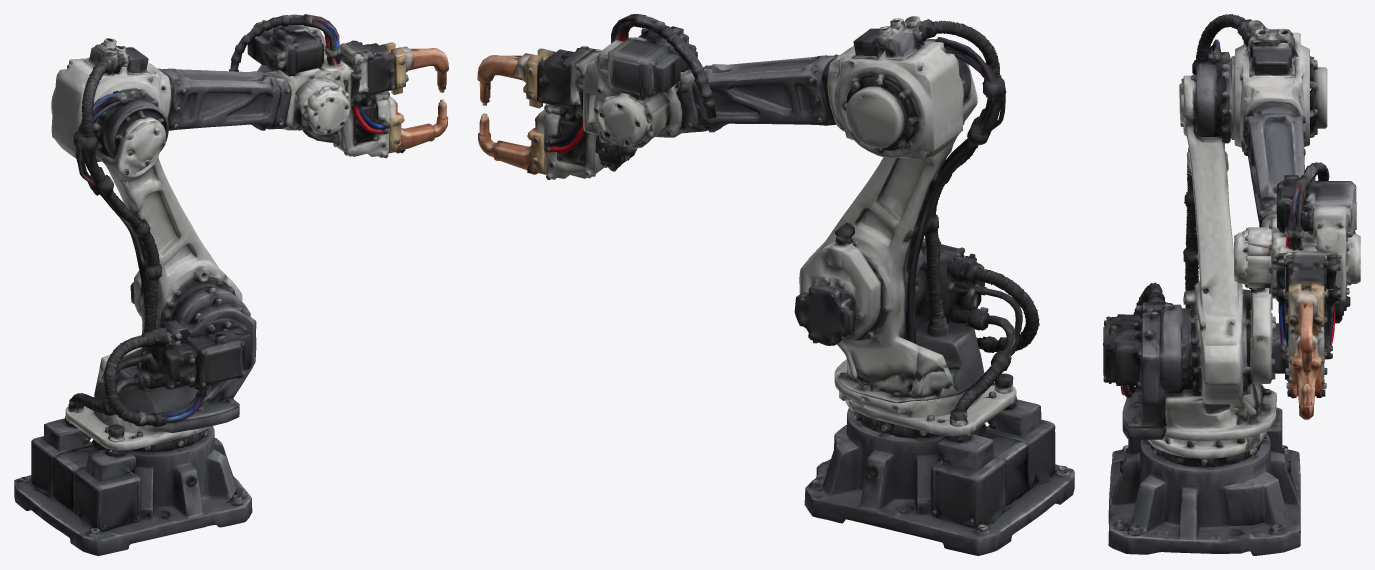
File: robot-soldadura.glb
3 views of the same model, side by side, from view 1: azimuth 30°, elevation 25°; view 2: azimuth 150°, elevation 25°; view 3: azimuth 270°, elevation 25° (orthographic). The views are drawn at different scales.
Visible parts, largest first — view 1: tripo_part_1, tripo_part_0, tripo_part_2, tripo_part_3, tripo_part_4, tripo_part_15, tripo_part_11, tripo_part_10, tripo_part_5, tripo_part_13, tripo_part_23, tripo_part_12 (+17 smaller); view 2: tripo_part_0, tripo_part_1, tripo_part_2, tripo_part_3, tripo_part_4, tripo_part_6, tripo_part_8, tripo_part_13, tripo_part_21, tripo_part_15, tripo_part_7, tripo_part_5 (+17 smaller); view 3: tripo_part_1, tripo_part_2, tripo_part_3, tripo_part_0, tripo_part_4, tripo_part_8, tripo_part_10, tripo_part_6, tripo_part_11, tripo_part_18, tripo_part_16, tripo_part_26 (+18 smaller).
Part boxes in pixels (x1,y1,x2,y2): tripo_part_1: (14, 426, 252, 555); tripo_part_0: (51, 48, 174, 353); tripo_part_2: (99, 117, 242, 374); tripo_part_3: (65, 286, 250, 450); tripo_part_4: (158, 68, 280, 130); tripo_part_15: (73, 449, 140, 531); tripo_part_11: (162, 327, 251, 390); tripo_part_10: (146, 298, 256, 405); tripo_part_5: (104, 327, 208, 426); tripo_part_13: (31, 416, 94, 500); tripo_part_23: (264, 27, 323, 76); tripo_part_12: (229, 14, 341, 71); tripo_part_0: (822, 16, 1006, 343); tripo_part_1: (804, 408, 1074, 555); tripo_part_2: (799, 63, 977, 382); tripo_part_3: (834, 249, 1016, 436); tripo_part_4: (692, 54, 839, 132); tripo_part_6: (794, 222, 882, 345); tripo_part_8: (583, 30, 680, 148); tripo_part_13: (930, 433, 1011, 528); tripo_part_21: (843, 75, 917, 150); tripo_part_15: (983, 399, 1055, 490); tripo_part_7: (954, 284, 1022, 411); tripo_part_5: (947, 258, 1039, 352); tripo_part_1: (1108, 434, 1300, 555); tripo_part_2: (1179, 75, 1258, 421); tripo_part_3: (1122, 303, 1276, 458); tripo_part_0: (1183, 14, 1317, 308); tripo_part_4: (1243, 107, 1305, 222); tripo_part_8: (1290, 181, 1356, 303); tripo_part_10: (1134, 301, 1167, 428); tripo_part_6: (1246, 288, 1288, 385); tripo_part_11: (1103, 314, 1142, 385); tripo_part_18: (1243, 27, 1298, 78); tripo_part_16: (1287, 334, 1325, 419); tripo_part_26: (1191, 63, 1219, 136).
Size of the model in its own units: 0.9818 by 0.9278 by 0.4439.
1 material, 1 textured.
